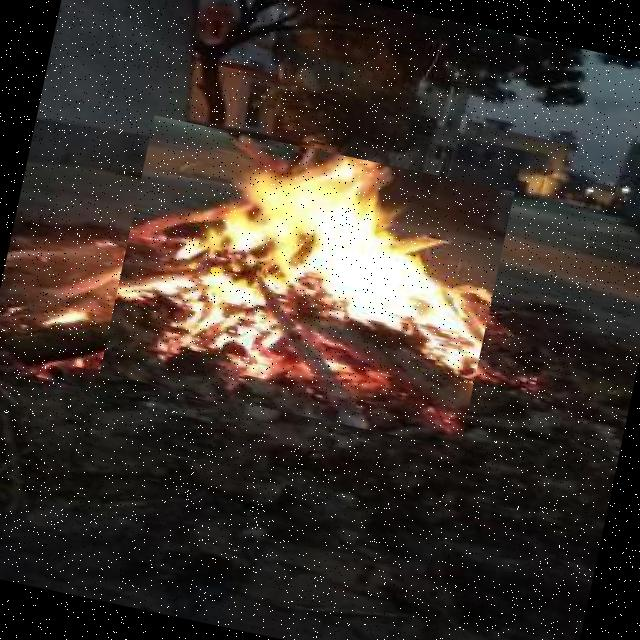fire: (99, 115, 514, 449)
